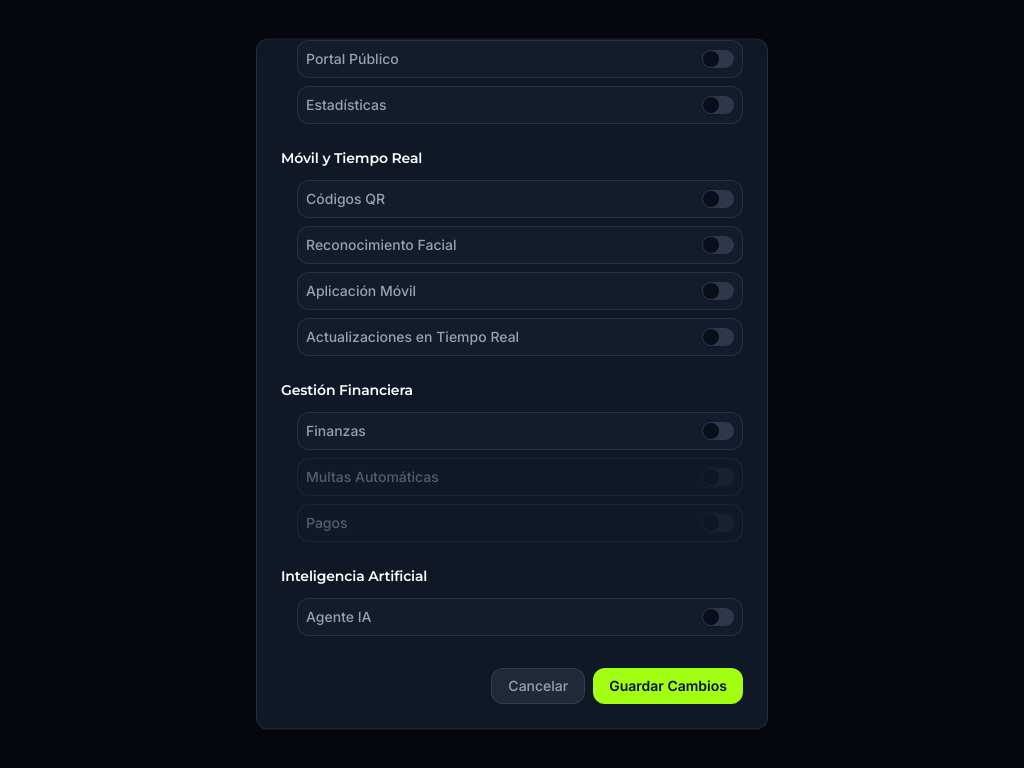
Test case: LeagueFeaturesEditor › sends every flag as an explicit boolean even when the league has no features yet
This screenshot has width=1024, height=768.
(page scrolled)
Step 1. Click the button "Guardar Cambios" → (668, 686), box x1=593 y1=668 x2=743 y2=704
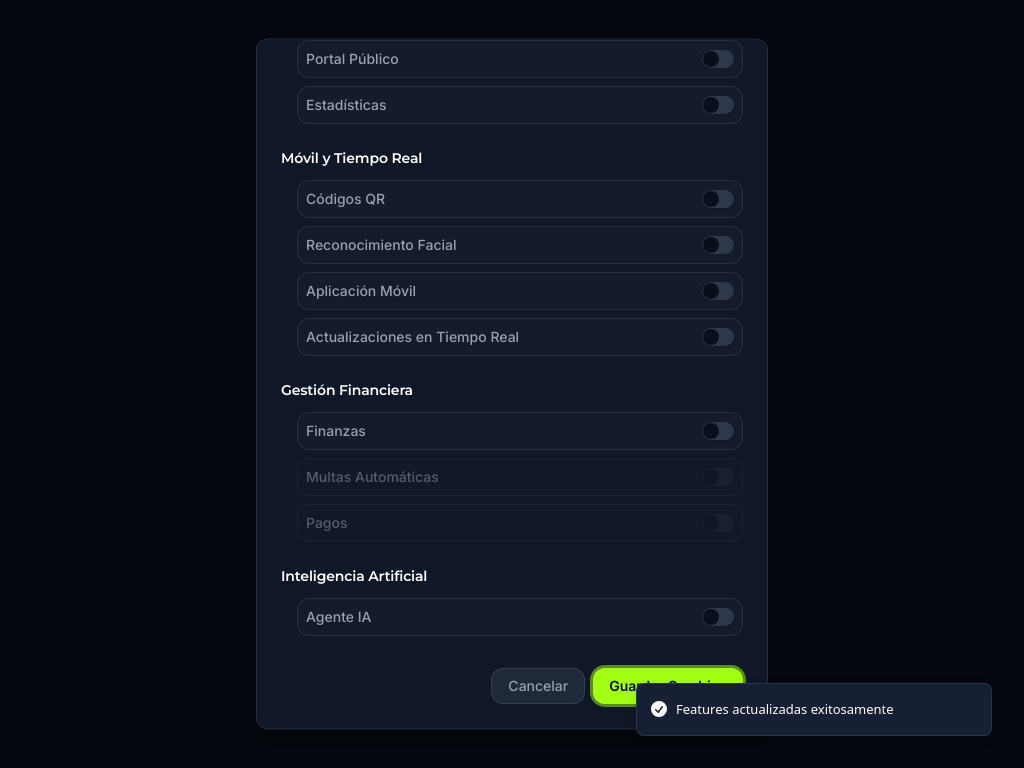
Result: the text "Features actualizadas exitosamente" is shown at x1=676 y1=700 x2=894 y2=719
